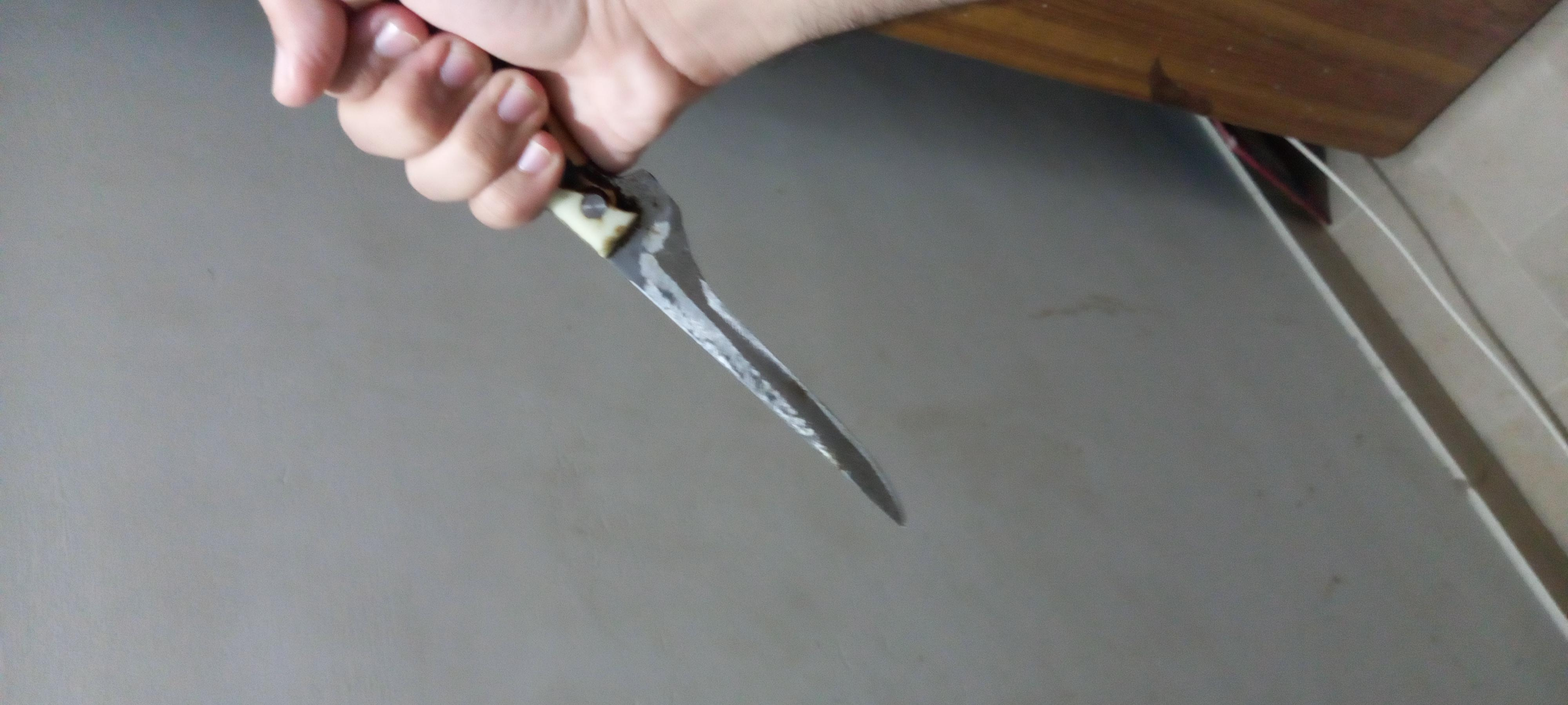knives: (341, 157, 1473, 410)
